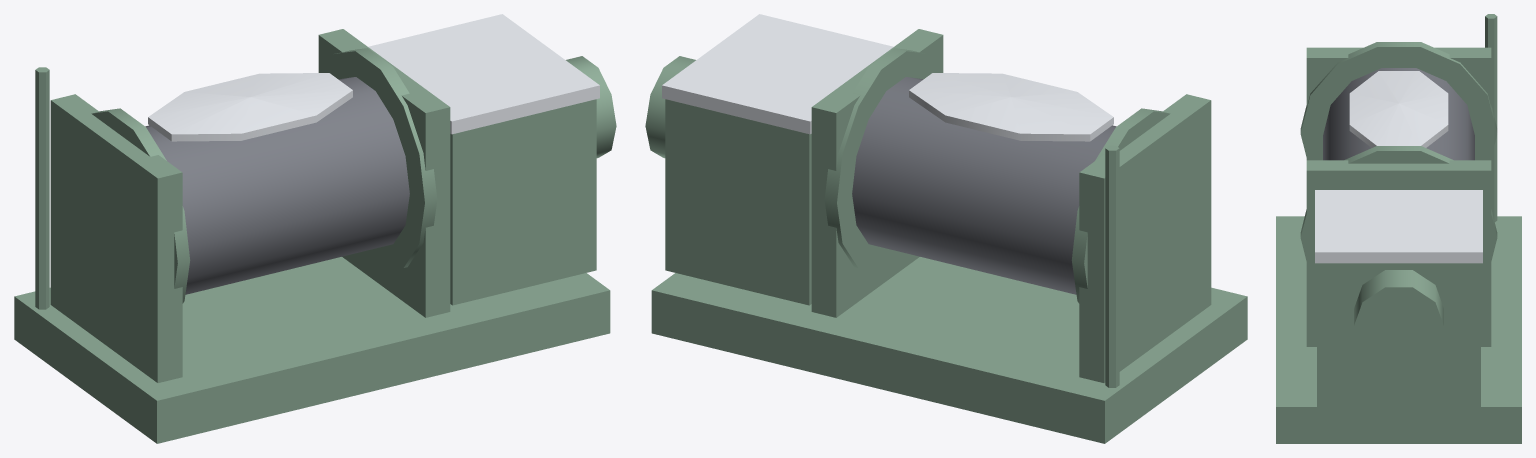
Rendered from winch.glb.
3 views of the same model, side by side, from view 1: azimuth 30°, elevation 25°; view 2: azimuth 150°, elevation 25°; view 3: azimuth 270°, elevation 25° (orthographic). The views are drawn at different scales.
Visible parts, largest first — view 1: winch, rope, snow; view 2: winch, rope, snow; view 3: winch, snow, rope.
Boxes of the visible parts, bbox=[...] form: winch: bbox=[14, 29, 616, 443]; rope: bbox=[145, 77, 409, 294]; snow: bbox=[148, 14, 599, 141]; winch: bbox=[645, 29, 1247, 443]; rope: bbox=[852, 77, 1116, 294]; snow: bbox=[662, 14, 1113, 141]; winch: bbox=[1276, 14, 1521, 443]; snow: bbox=[1315, 71, 1482, 263]; rope: bbox=[1323, 68, 1474, 160].
Bounding box in the file's own units: 2.45 × 1.3 × 1.2.
